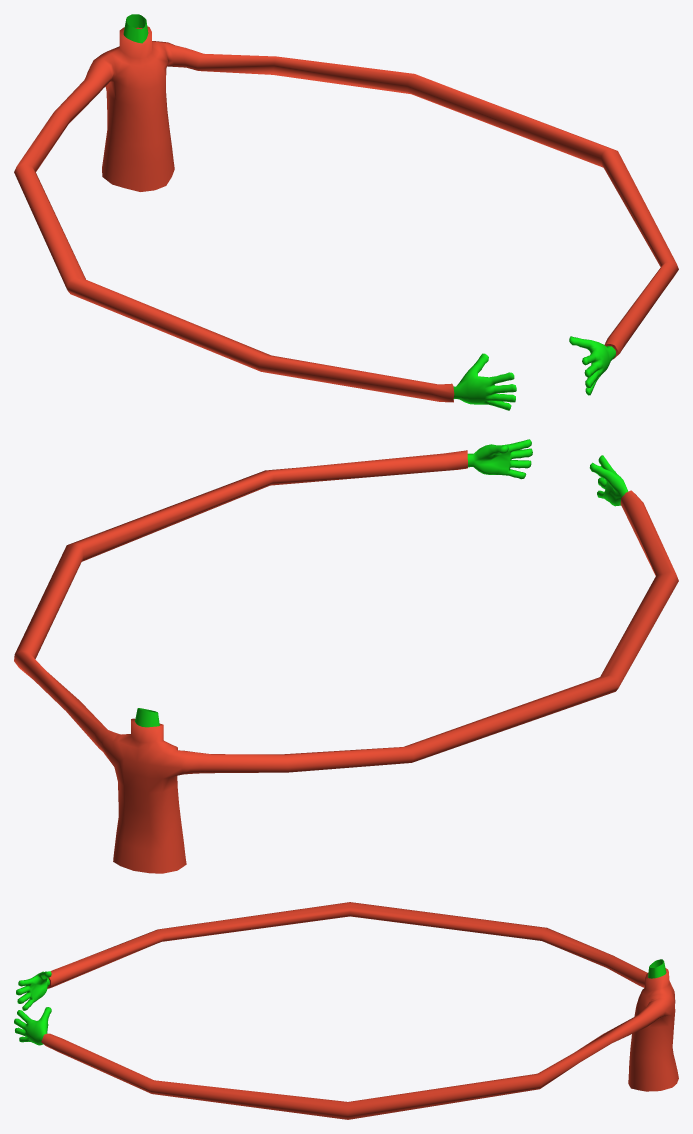
Rendered from Yedek.fbx.
3 views of the same model, one above another, from view 1: azimuth 30°, elevation 25°; view 2: azimuth 150°, elevation 25°; view 3: azimuth 270°, elevation 25° (orthographic). The views are drawn at different scales.
Parts seen in each view (by area): view 1: Kollar; view 2: Kollar; view 3: Kollar.
Boxes of the visible parts, bbox=[...] form: Kollar: bbox=[14, 14, 678, 410]; Kollar: bbox=[14, 439, 678, 873]; Kollar: bbox=[14, 902, 678, 1119].
Size of the model in its own units: 23893 by 6576 by 32376.
